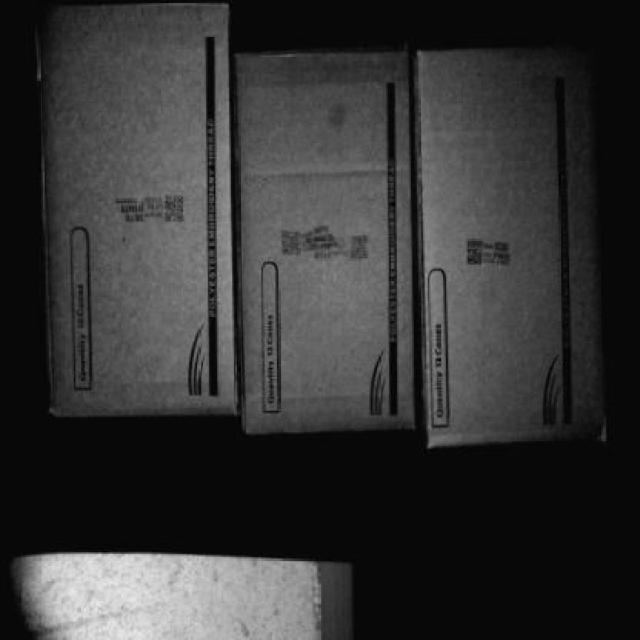cardboxes: (38, 1, 239, 417), (422, 48, 609, 443), (238, 52, 420, 438)
